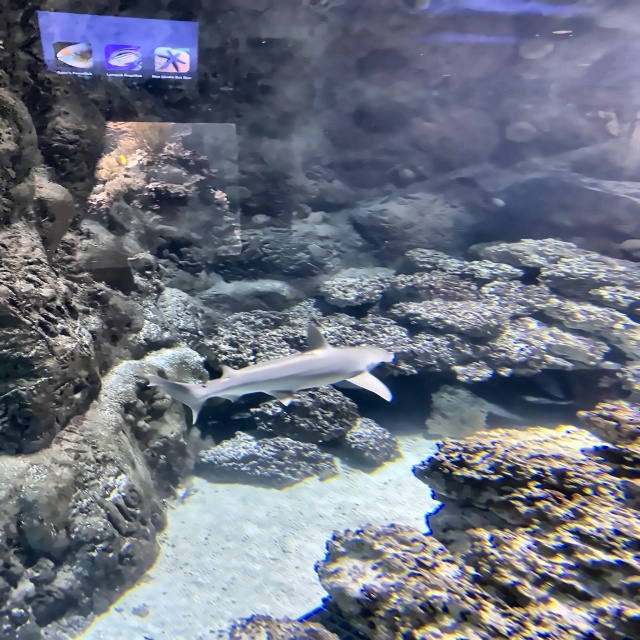shark: (145, 324, 392, 425)
